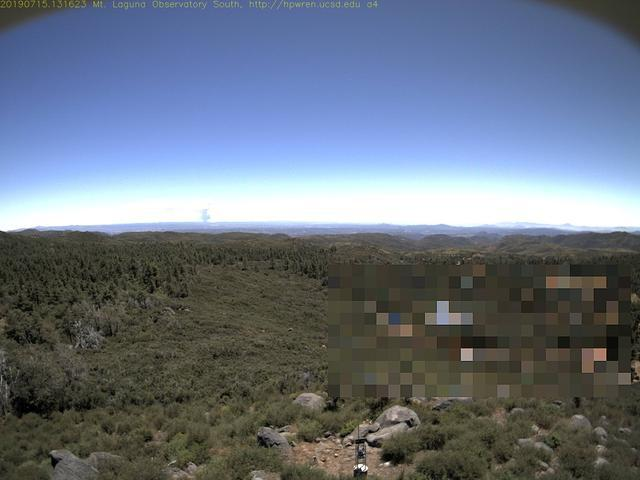smoke: (196, 206, 214, 226)
